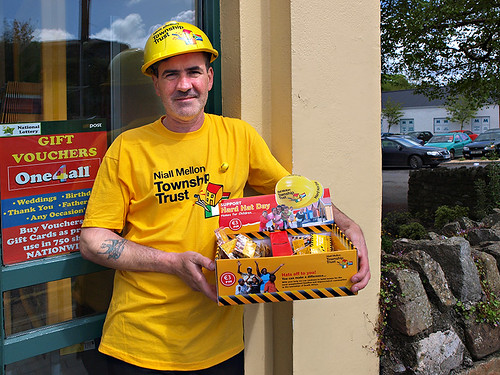person hardhat: (81, 19, 287, 375)
